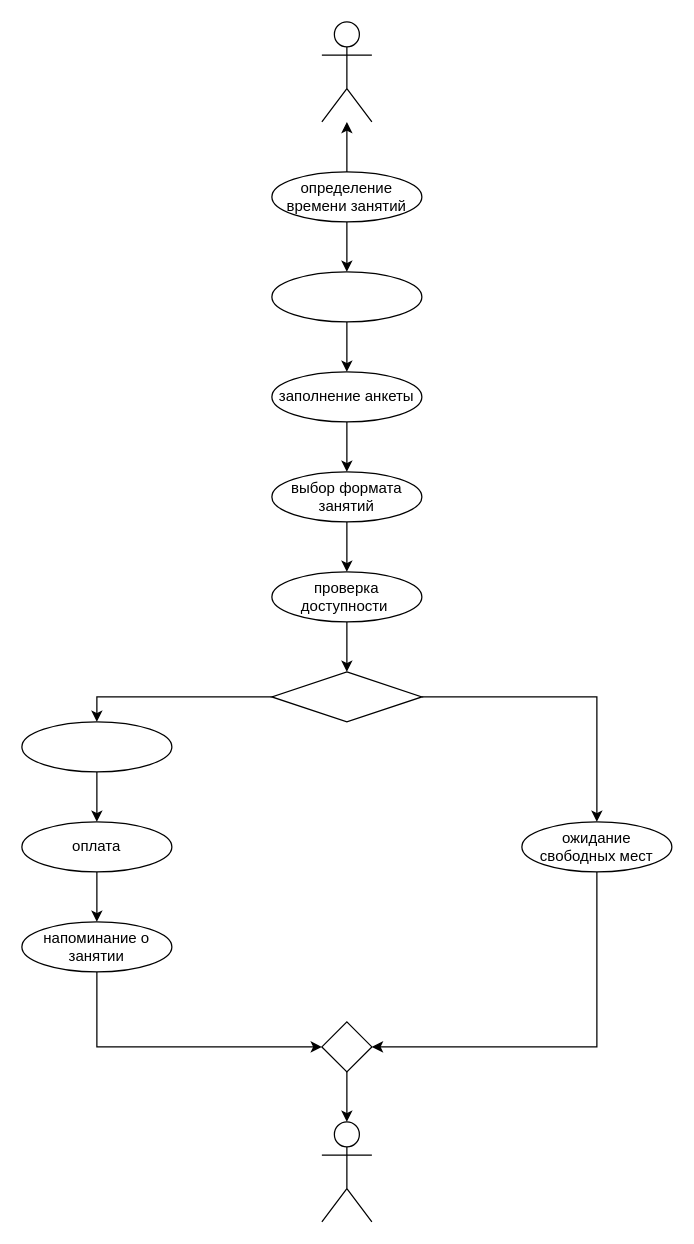
The diagram is 694 pixels wide and 1244 high, and some of its shapes have lost their labels. Each missing label, with the box of its shape:
выбор препода: (271, 271, 422, 322)
подтверждение записи: (21, 721, 172, 772)
свободные места: (271, 671, 422, 722)
